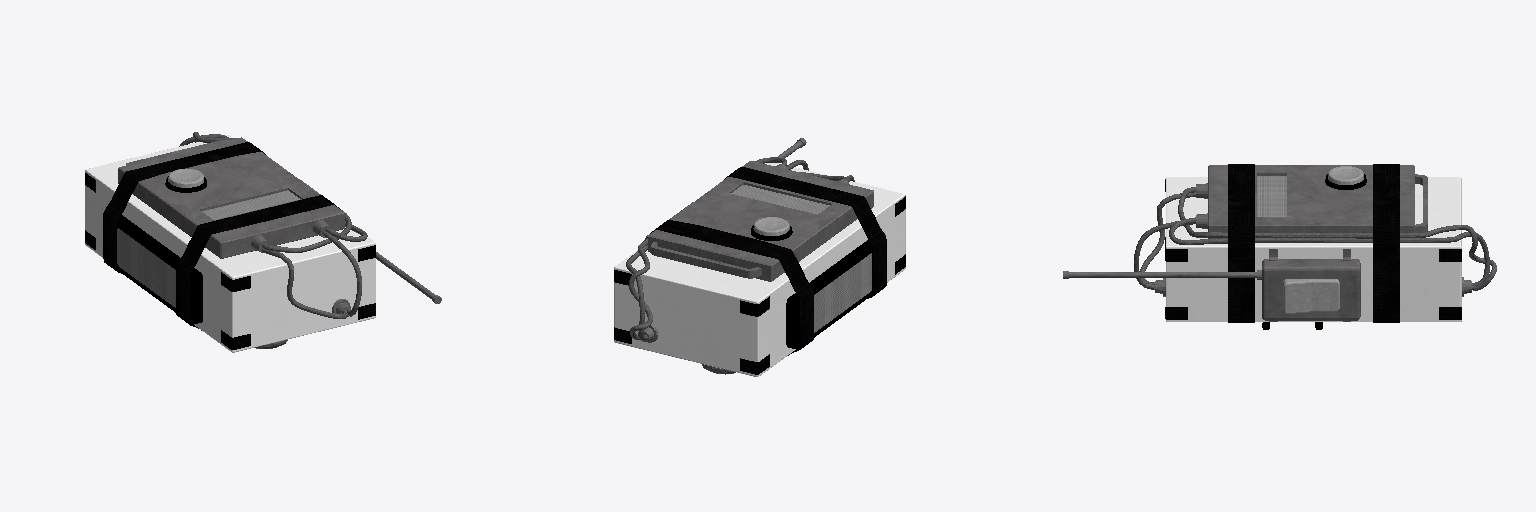
The picture shows the model from 3 angles: view 1: azimuth 30°, elevation 25°; view 2: azimuth 150°, elevation 25°; view 3: azimuth 270°, elevation 25°; orthographic projection.
Visible parts, largest first — view 1: Cube.001_Cube.028; view 2: Cube.001_Cube.028; view 3: Cube.001_Cube.028.
Boxes of the visible parts, x1,y1,x2,y2 form: Cube.001_Cube.028: [85, 132, 441, 352]; Cube.001_Cube.028: [614, 138, 905, 376]; Cube.001_Cube.028: [1063, 164, 1496, 329].
Size of the model in its own units: 1.6 by 1.08 by 3.26.
1 materials, 1 textured.